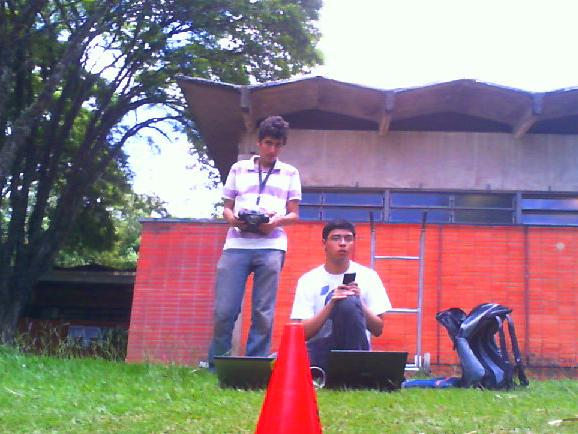0 cone: (247, 323, 330, 434)
